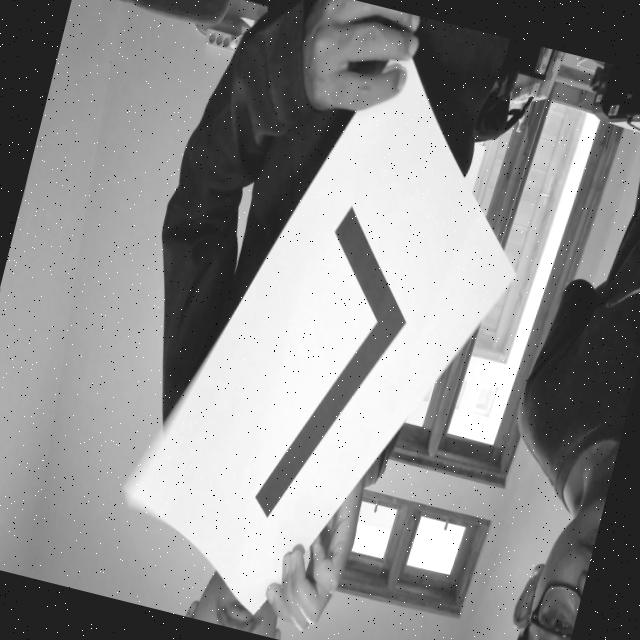l: (230, 182, 438, 554)
